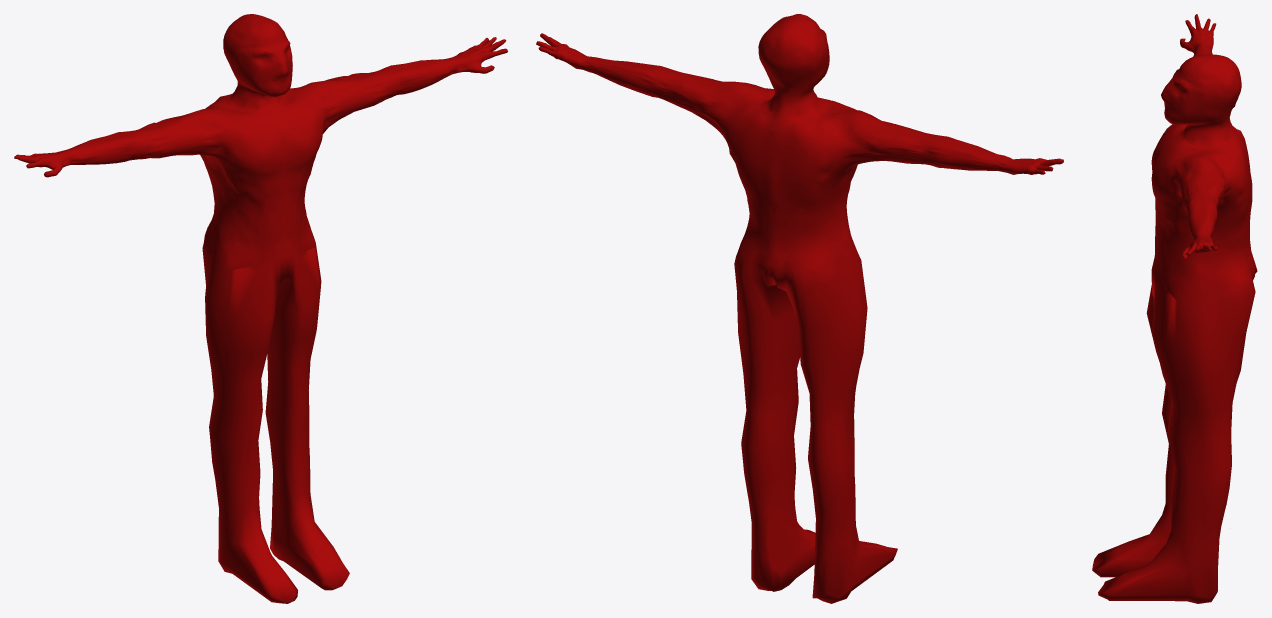
The model's file is BLENDERMAN!.obj.
3 views of the same model, side by side, from view 1: azimuth 30°, elevation 25°; view 2: azimuth 150°, elevation 25°; view 3: azimuth 270°, elevation 25° (orthographic). The views are drawn at different scales.
Visible parts, largest first — view 1: Cube.004_Cube.002; view 2: Cube.004_Cube.002; view 3: Cube.004_Cube.002.
Part boxes in pixels (x1,y1,x2,y2): Cube.004_Cube.002: [14, 14, 507, 603]; Cube.004_Cube.002: [536, 14, 1063, 603]; Cube.004_Cube.002: [1092, 14, 1257, 603].
Size of the model in its own units: 11.16 by 11.79 by 3.33.
